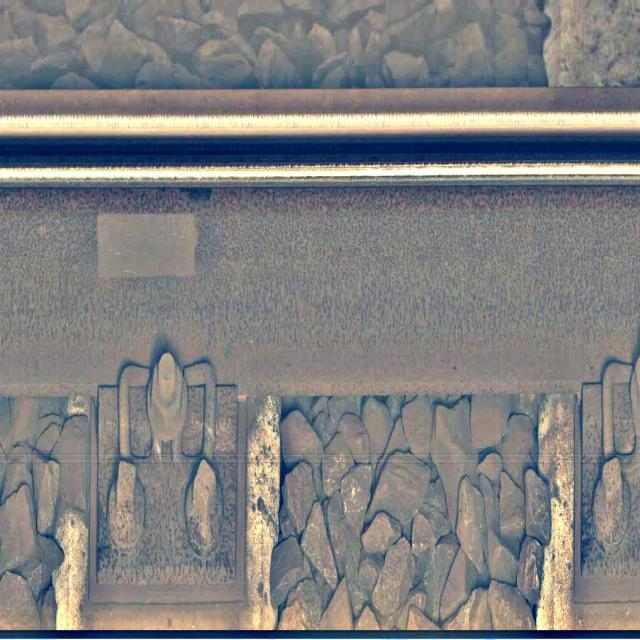Good Fasteners: (91, 343, 244, 601), (580, 361, 639, 583)
